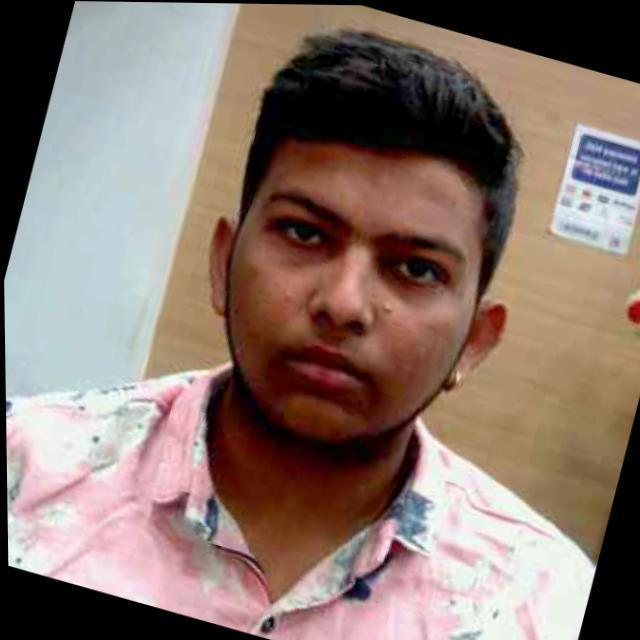puffy_eyes: (377, 264, 439, 306), (273, 232, 352, 264)
